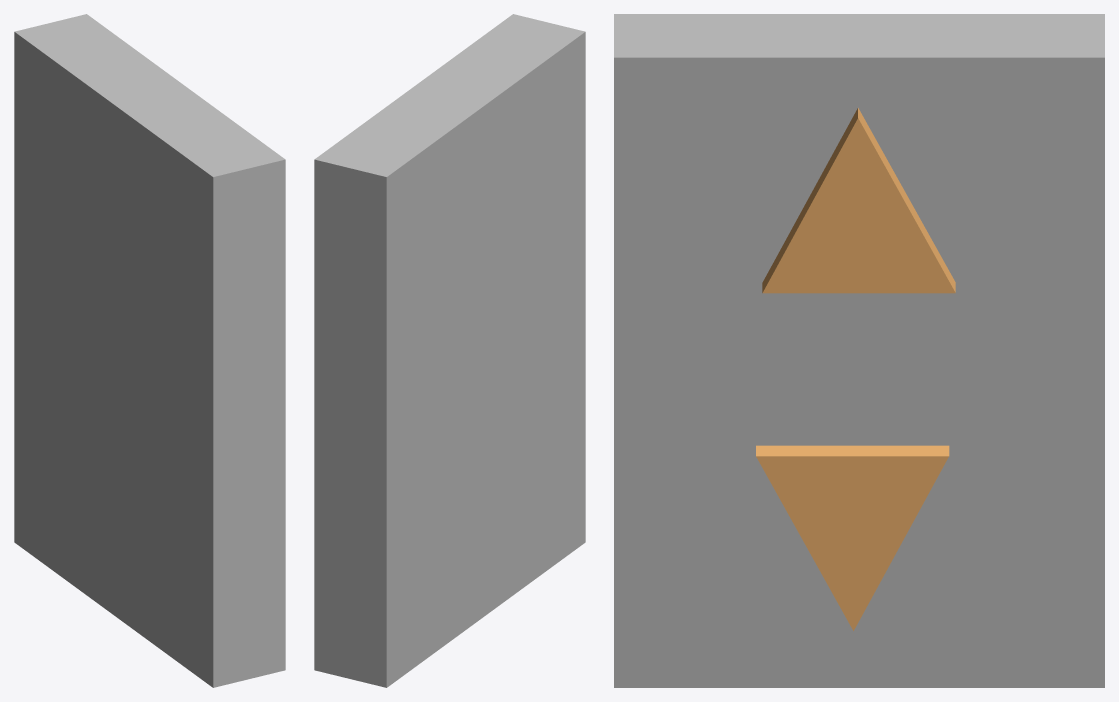
The model's file is bottonlift.fbx.
The picture shows the model from 3 angles, left to right: view 1: azimuth 30°, elevation 25°; view 2: azimuth 150°, elevation 25°; view 3: azimuth 270°, elevation 25°; orthographic projection. The views are drawn at different scales.
Parts seen in each view (by area): view 1: Cube; view 2: Cube; view 3: Cube.
Boxes of the visible parts, <box> form: Cube: <box>14,14,285,687</box>; Cube: <box>314,14,585,687</box>; Cube: <box>614,14,1104,687</box>.
Bounding box in the file's own units: 4.54 × 24.62 × 17.37.
